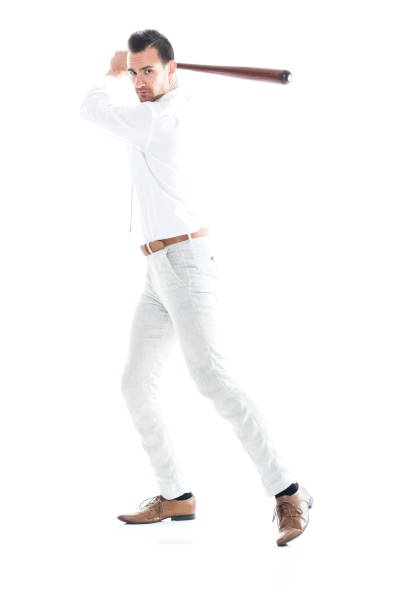bita: (172, 62, 290, 92)
